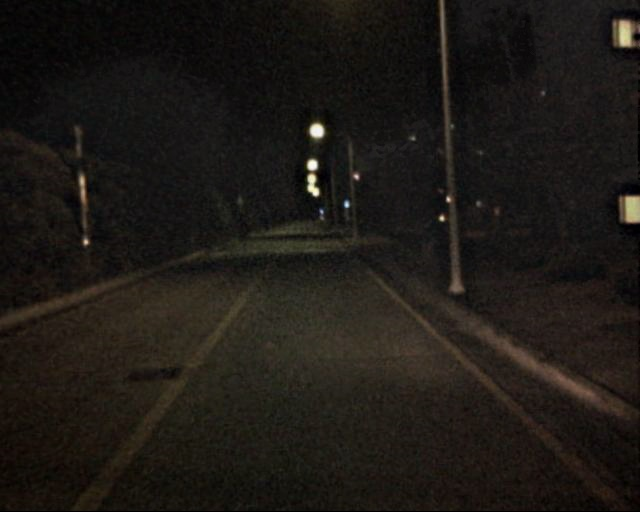person: (423, 216, 441, 260), (416, 217, 433, 258)
